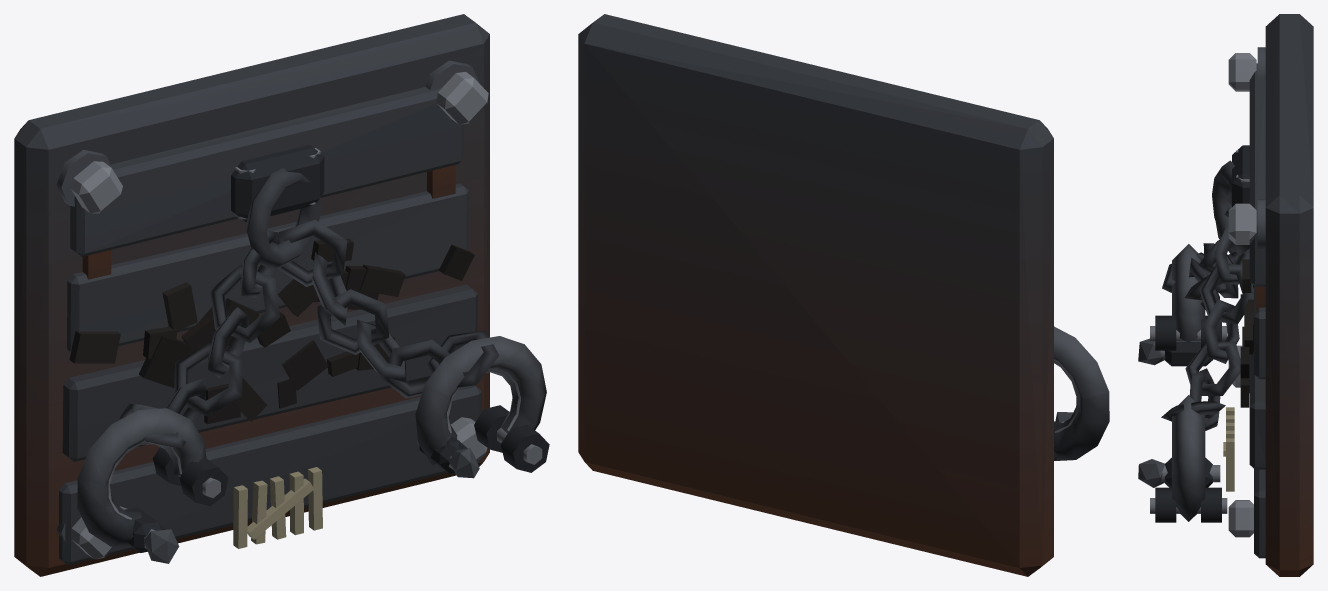
Rendered from dun-wall-manacles.glb.
3 renders of one model, left to right at view 1: azimuth 30°, elevation 25°; view 2: azimuth 150°, elevation 25°; view 3: azimuth 270°, elevation 25°, orthographic. The views are drawn at different scales.
Visible parts, largest first — view 1: dun_wall_manacles; view 2: dun_wall_manacles; view 3: dun_wall_manacles.
Boxes of the visible parts, x1,y1,x2,y2 form: dun_wall_manacles: (14, 14, 549, 576); dun_wall_manacles: (578, 14, 1109, 576); dun_wall_manacles: (1138, 14, 1313, 576).
Bounding box in the file's own units: 0.5263 × 0.48 × 0.2001.
